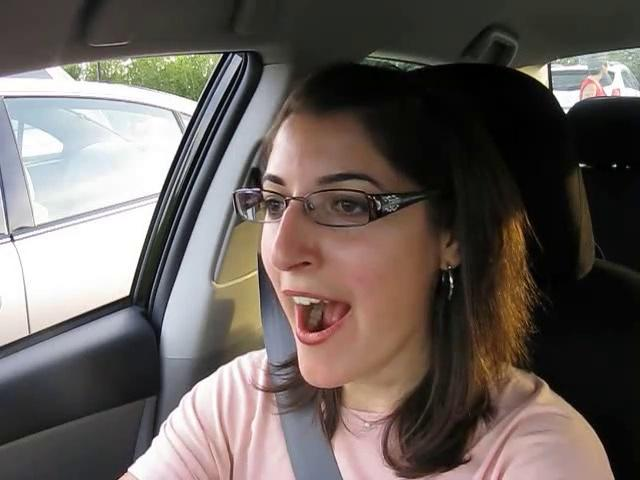open_eyeL: (239, 188, 303, 231)
open_eyeR: (308, 184, 390, 234)
yawn: (271, 281, 369, 355)
